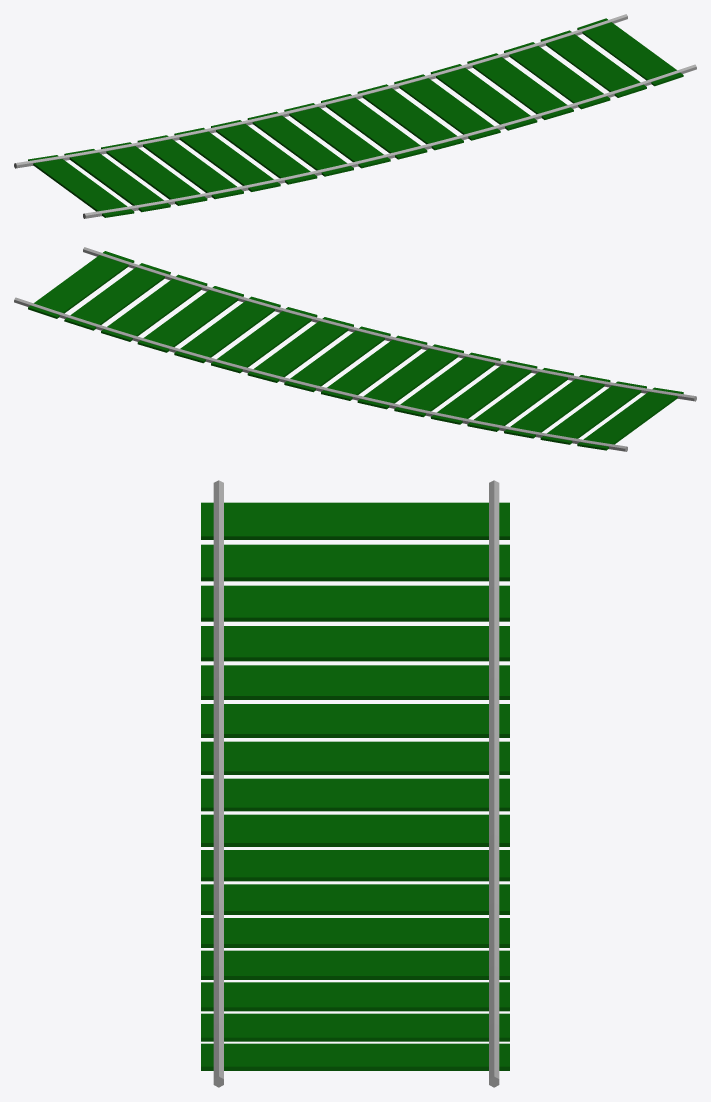
The model's file is Rope Bridge.fbx.
3 views of the same model, one above another, from view 1: azimuth 30°, elevation 25°; view 2: azimuth 150°, elevation 25°; view 3: azimuth 270°, elevation 25° (orthographic). The views are drawn at different scales.
Parts seen in each view (by area): view 1: pCombinedPanels, pRopeRight, pRopeLeft; view 2: pCombinedPanels, pRopeLeft, pRopeRight; view 3: pCombinedPanels, pRopeLeft, pRopeRight.
Boxes of the visible parts, left/top/right/bottom form: pCombinedPanels: left=28, top=18, right=683, bottom=217; pRopeRight: left=83, top=64, right=696, bottom=218; pRopeLeft: left=14, top=14, right=627, bottom=168; pCombinedPanels: left=28, top=251, right=683, bottom=450; pRopeLeft: left=14, top=297, right=627, bottom=451; pRopeRight: left=83, top=247, right=696, bottom=401; pCombinedPanels: left=201, top=502, right=509, bottom=1070; pRopeLeft: left=489, top=480, right=499, bottom=1087; pRopeRight: left=213, top=480, right=223, bottom=1087.
Bounding box in the file's own units: 93.99 × 2.93 × 20.55.
